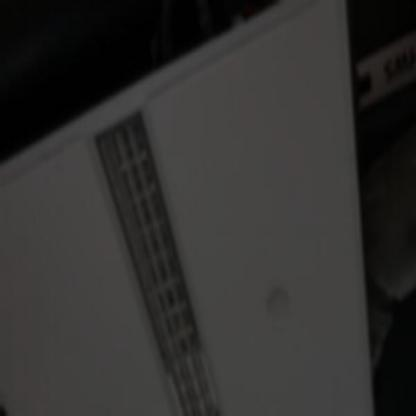light_off: (77, 91, 227, 415)
